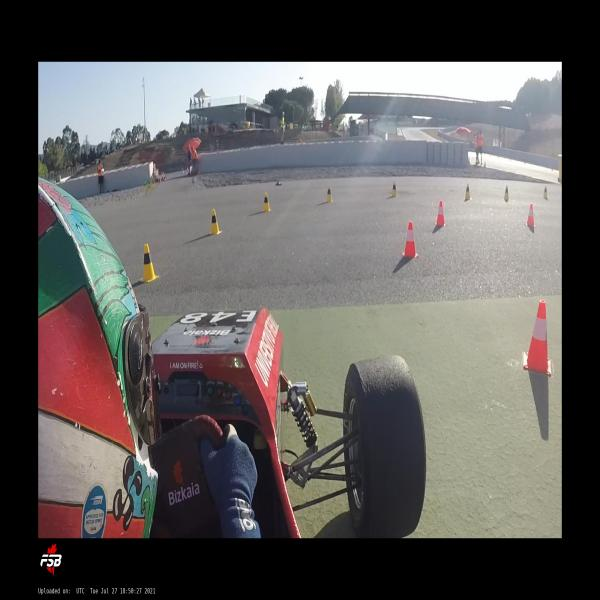orange_cone: (523, 300, 551, 375), (402, 221, 418, 258), (434, 201, 445, 226), (526, 204, 536, 226)
yellow_cone: (140, 244, 159, 282), (209, 208, 222, 234), (261, 192, 271, 212), (326, 185, 332, 202), (391, 182, 397, 198), (464, 184, 470, 199), (504, 185, 509, 201), (542, 186, 548, 198)
